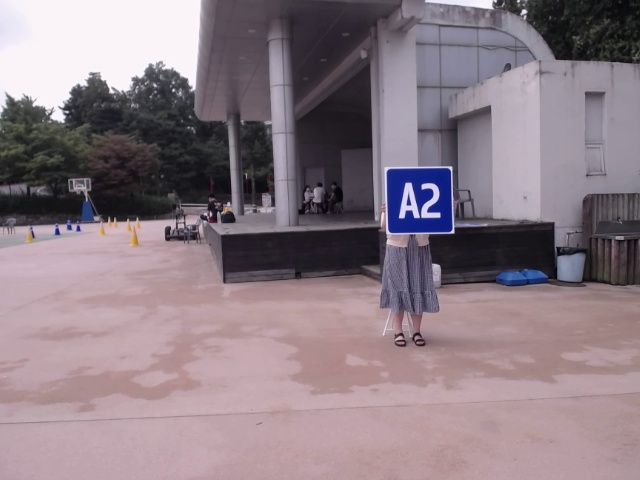delivery_a2: (385, 166, 454, 233)
